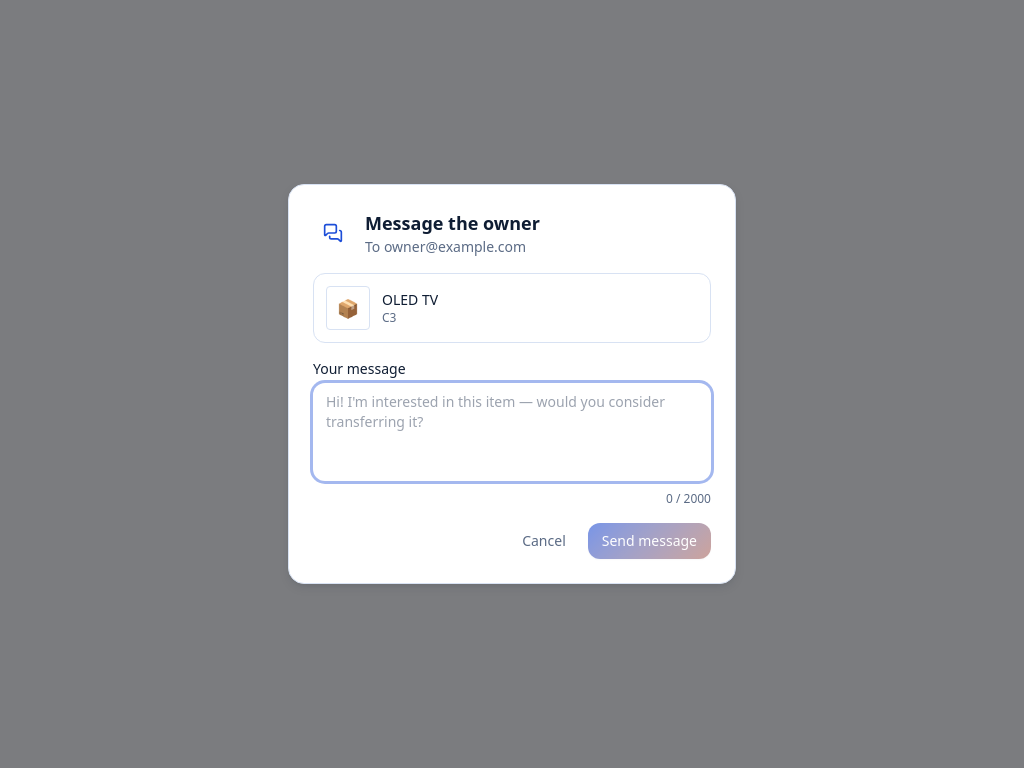
<MessageComposeDialog /> › keeps the send button disabled until a non-empty message is entered
The image size is (1024, 768).
Expected: the button "Send message" is disabled, [588,523,711,559]
In the text box labelled "Your message": (512, 432) [313,383,711,481], type "hi"
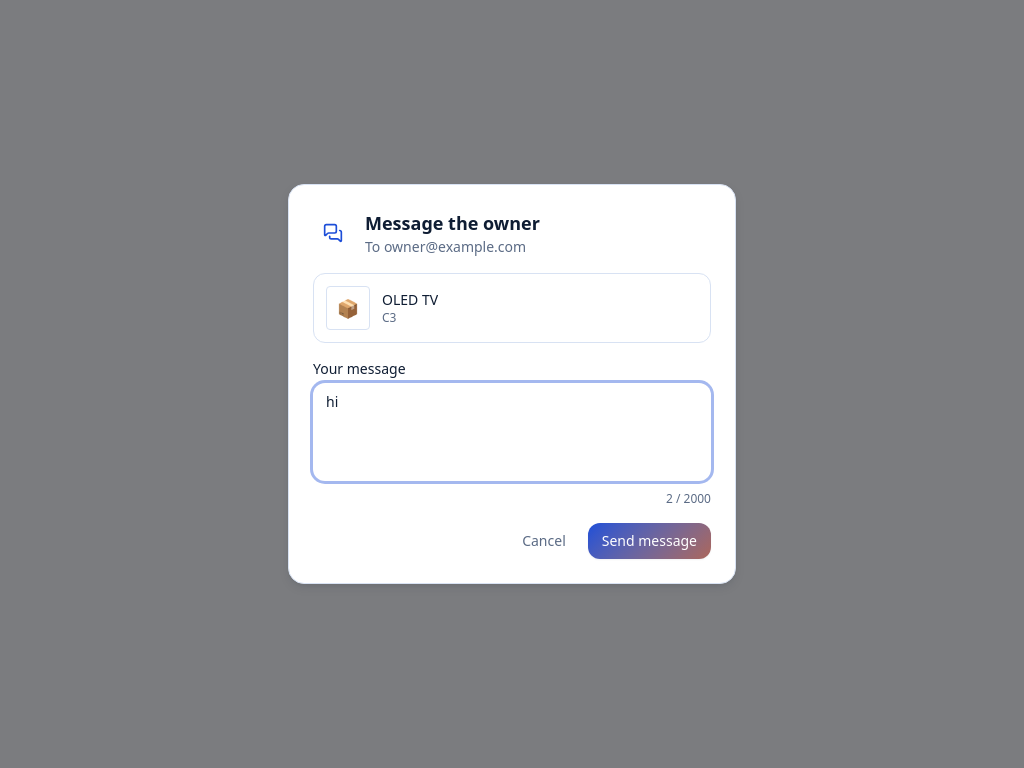
Result: the button "Send message" is enabled at [588,523,711,559]
